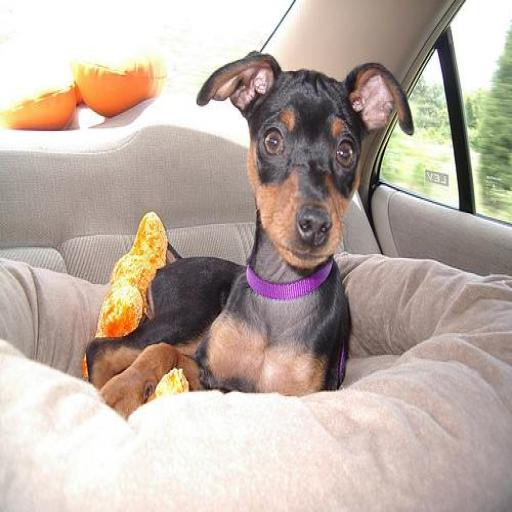dog_face: (192, 51, 408, 267)
